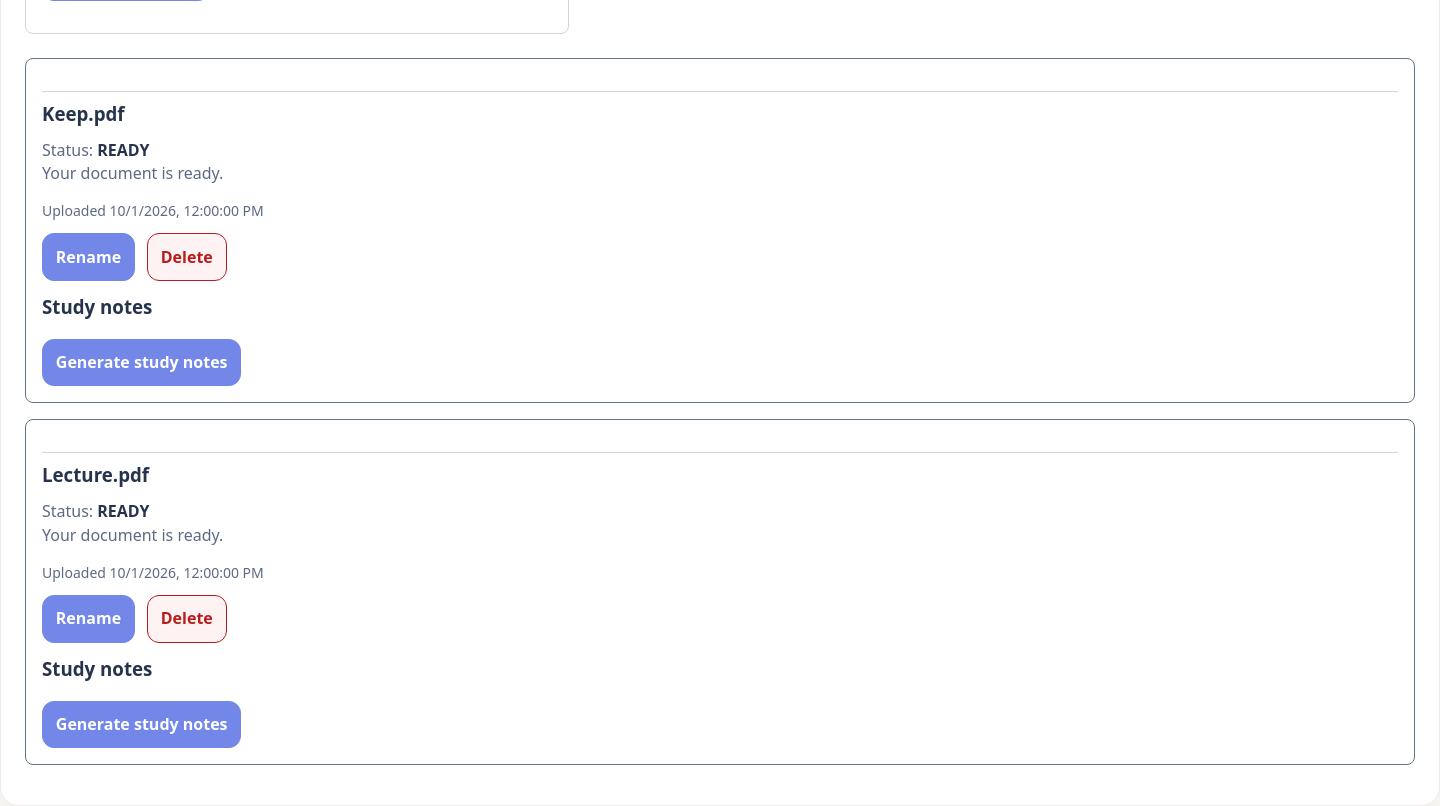
Test: requires delete confirmation, supports cancel, and removes only the selected item
This screenshot has width=1440, height=806.
(page scrolled)
Click the button "Delete" below "Lecture.pdf": (187, 619) [147,595,227,643]
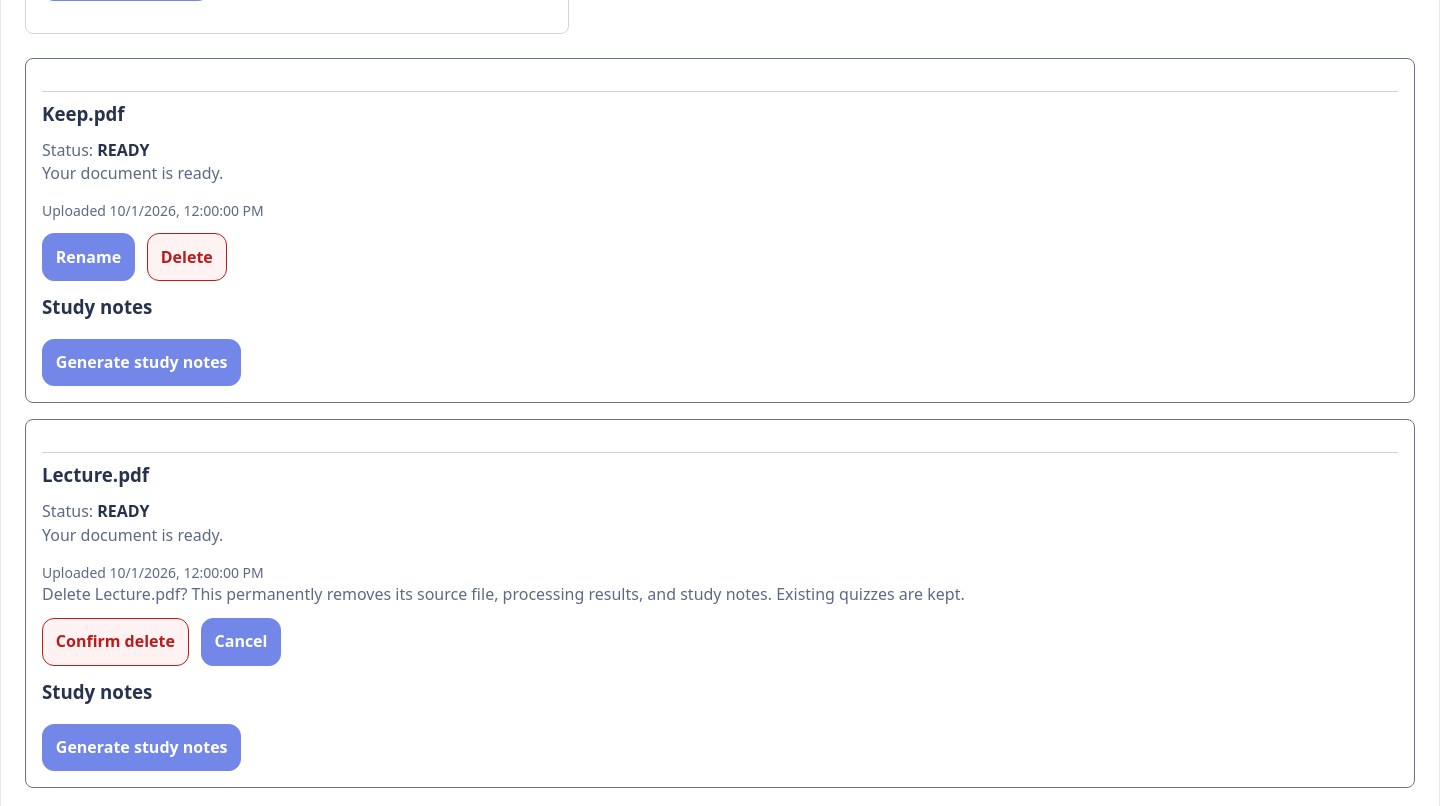
Expected: the element named "Confirm deletion" is shown, [42,583,965,666]
Click the button "Cancel": (241, 642) [201,618,281,666]
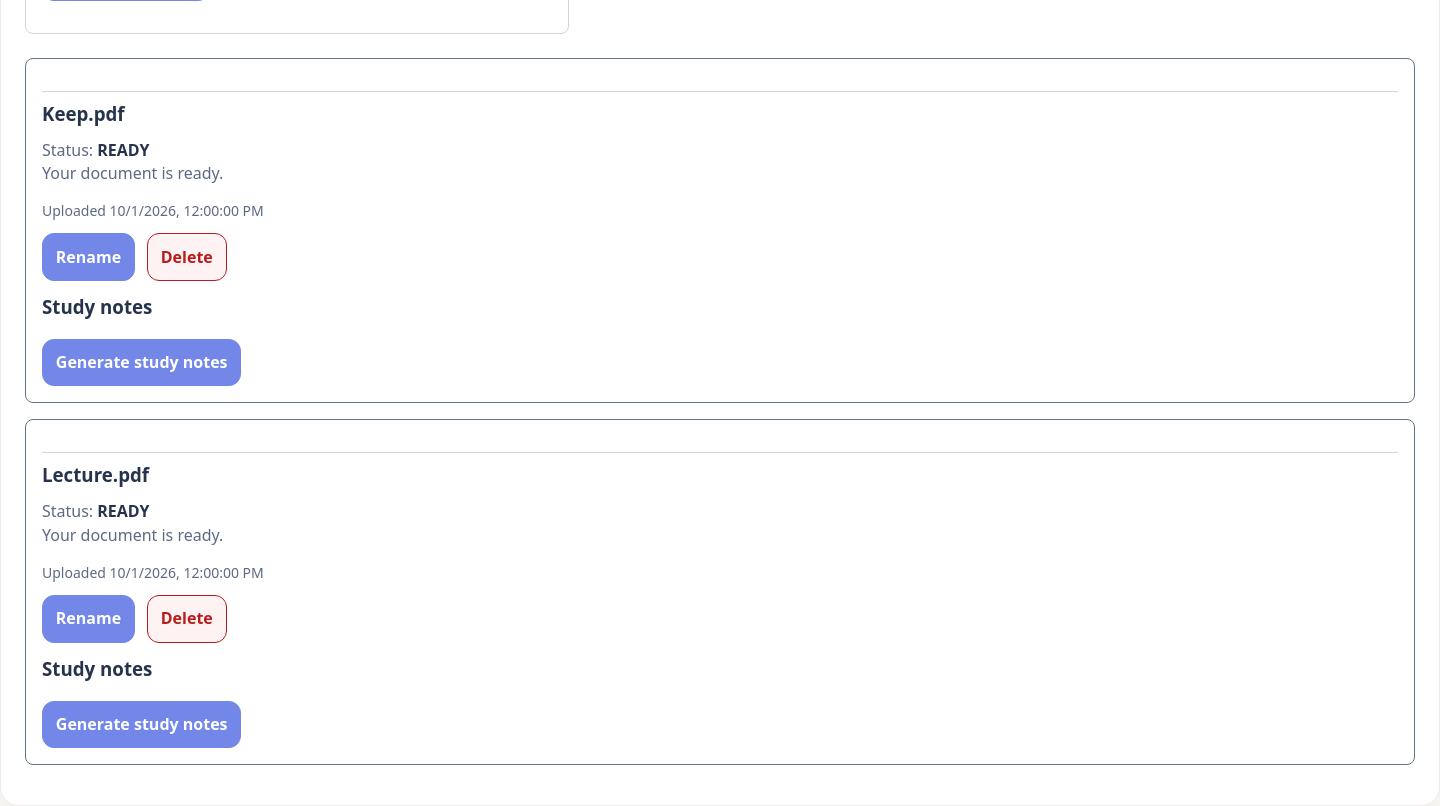
Click the button "Delete" below "Lecture.pdf": (187, 619) [147,595,227,643]
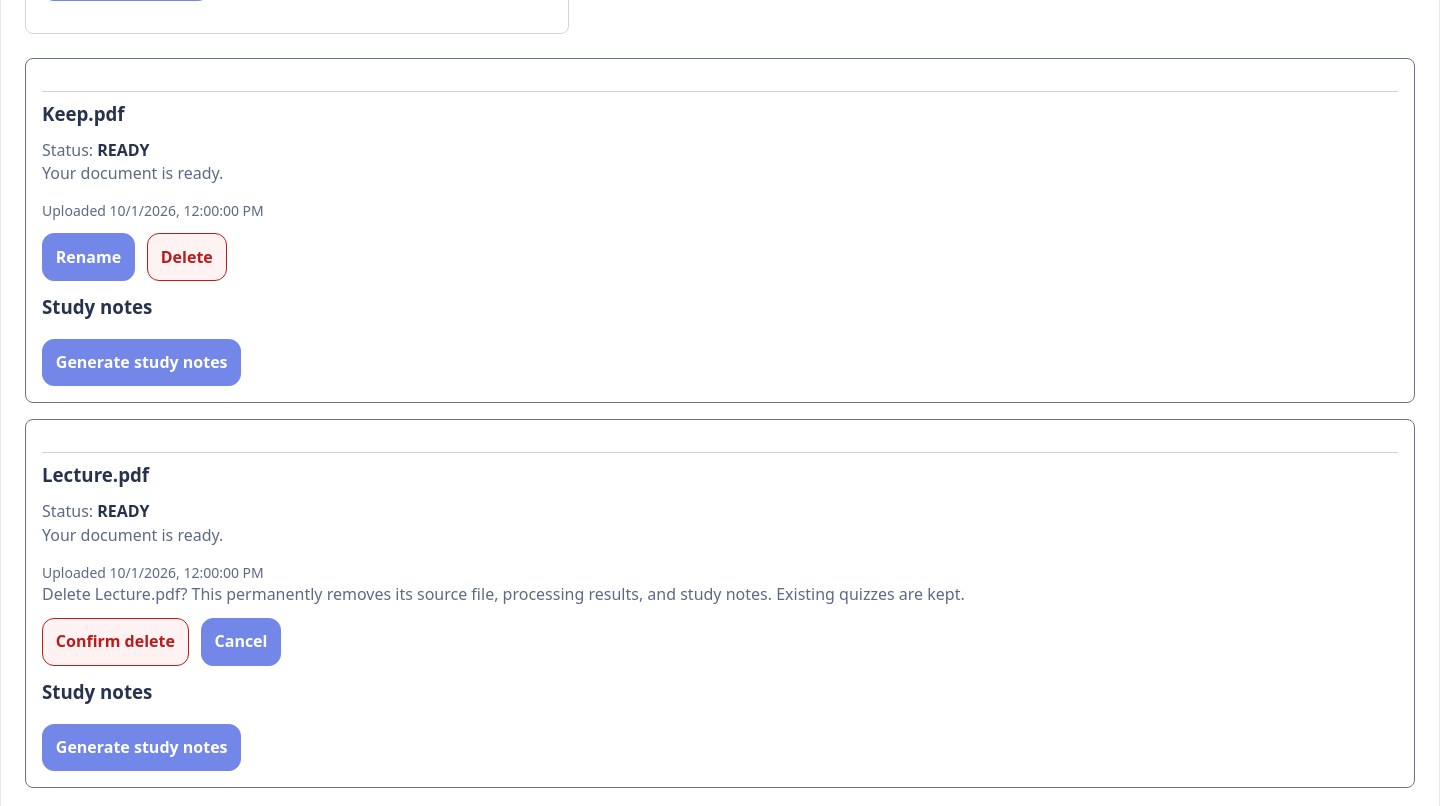
Click the button "Confirm delete": (115, 642) [42,618,189,666]
(page scrolled)
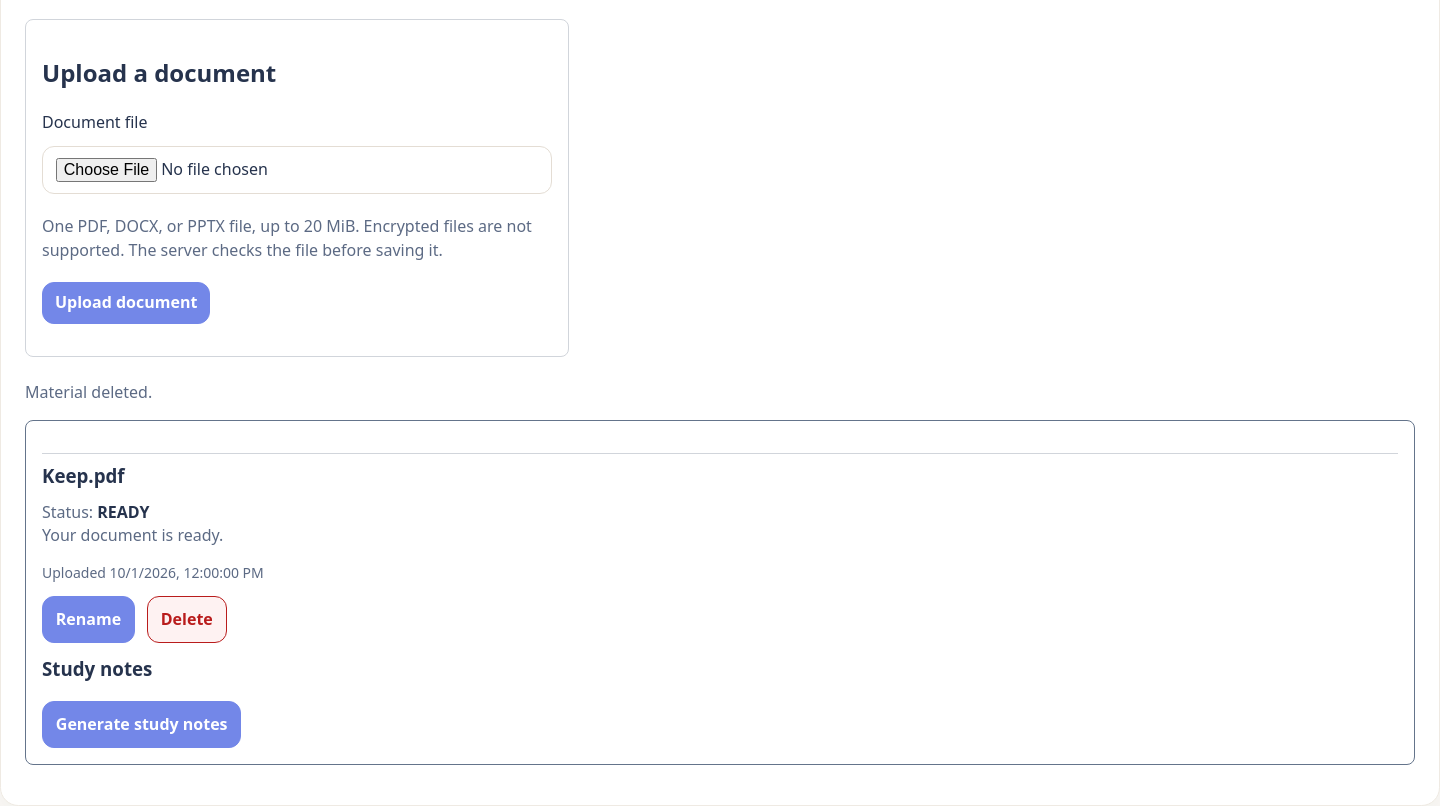
Expected: the element "Keep.pdf" is shown, [25,420,1415,766]
Expected: the heading "Lecture.pdf" is gone
Expected: the text "Material deleted." is shown, [25,380,152,402]
